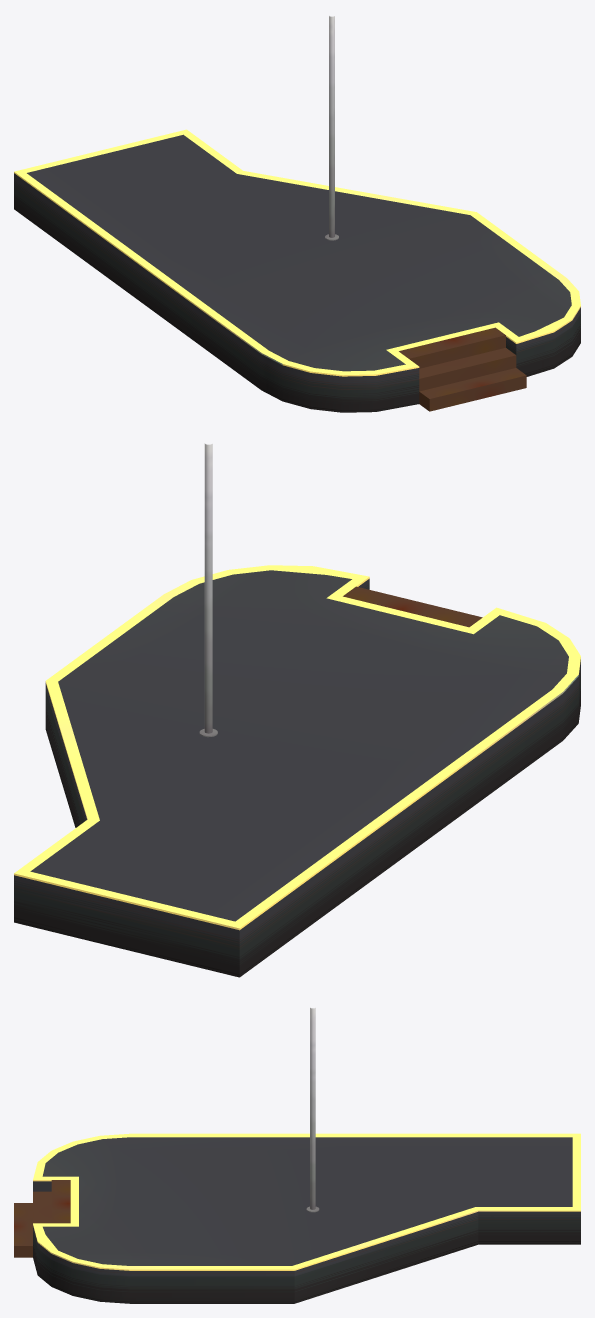
Rendered from 16bd7bba-b2d0-412c-b819-fb0422451d60.glb.
3 views of the same model, one above another, from view 1: azimuth 30°, elevation 25°; view 2: azimuth 150°, elevation 25°; view 3: azimuth 270°, elevation 25° (orthographic). The views are drawn at different scales.
Parts seen in each view (by area): view 1: StriperRunway01; view 2: StriperRunway01; view 3: StriperRunway01.
Boxes of the visible parts, bbox=[...] form: StriperRunway01: bbox=[14, 16, 580, 412]; StriperRunway01: bbox=[14, 443, 580, 977]; StriperRunway01: bbox=[14, 1007, 580, 1303].
Size of what is drawn, in the model's own units: 5.1 by 4.14 by 9.
1 material, 1 textured.
